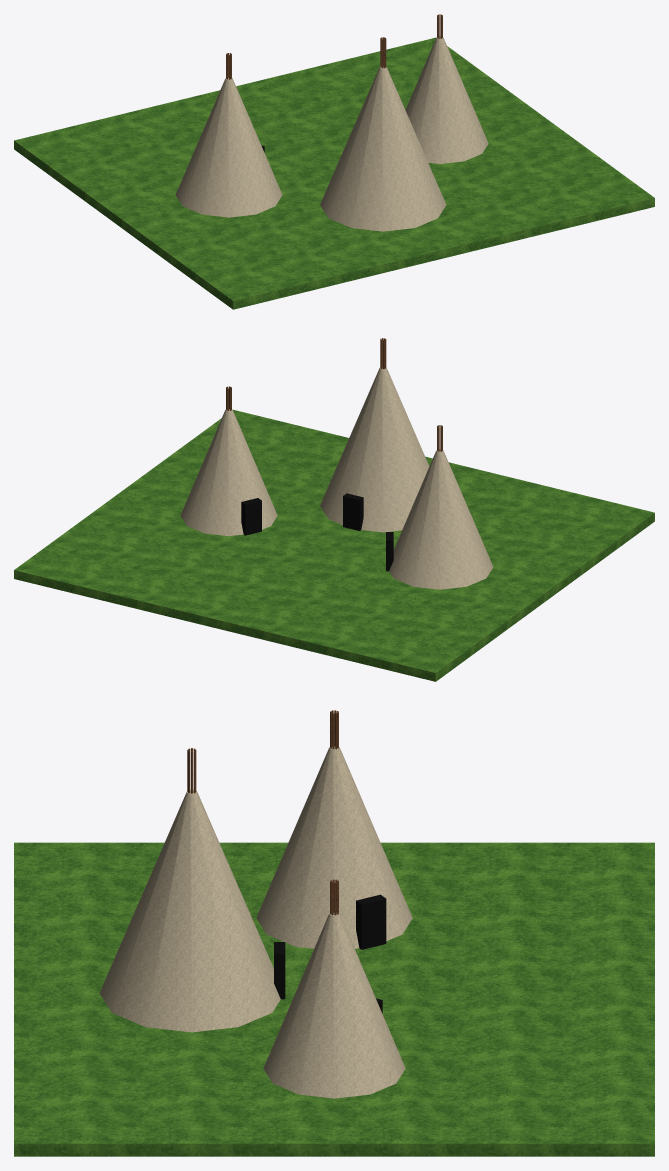
Rendered from b_tipi_camp.gltf.
The picture shows the model from 3 angles, top to bottom: view 1: azimuth 30°, elevation 25°; view 2: azimuth 150°, elevation 25°; view 3: azimuth 270°, elevation 25°; orthographic projection. The views are drawn at different scales.
Visible parts, largest first — view 1: S_tipi_camp; view 2: S_tipi_camp; view 3: S_tipi_camp.
Part boxes in pixels (bbox=[...]): S_tipi_camp: bbox=[14, 14, 654, 309]; S_tipi_camp: bbox=[14, 338, 654, 681]; S_tipi_camp: bbox=[14, 710, 654, 1156].
Bounding box in the file's own units: 20 × 7.94 × 18.
4 materials, 3 textured.
